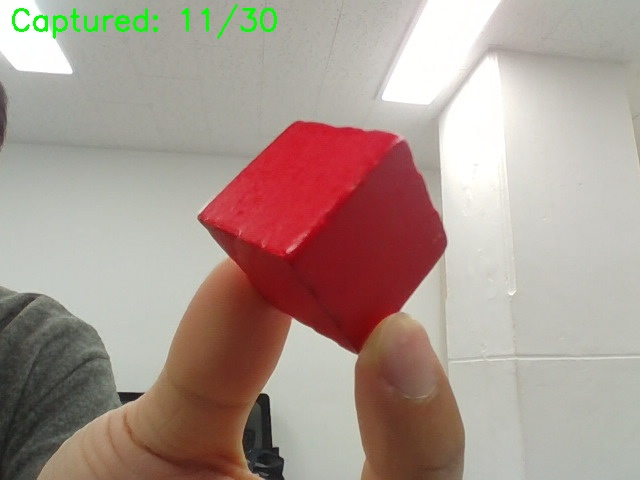Normal: (335, 66, 562, 285)
